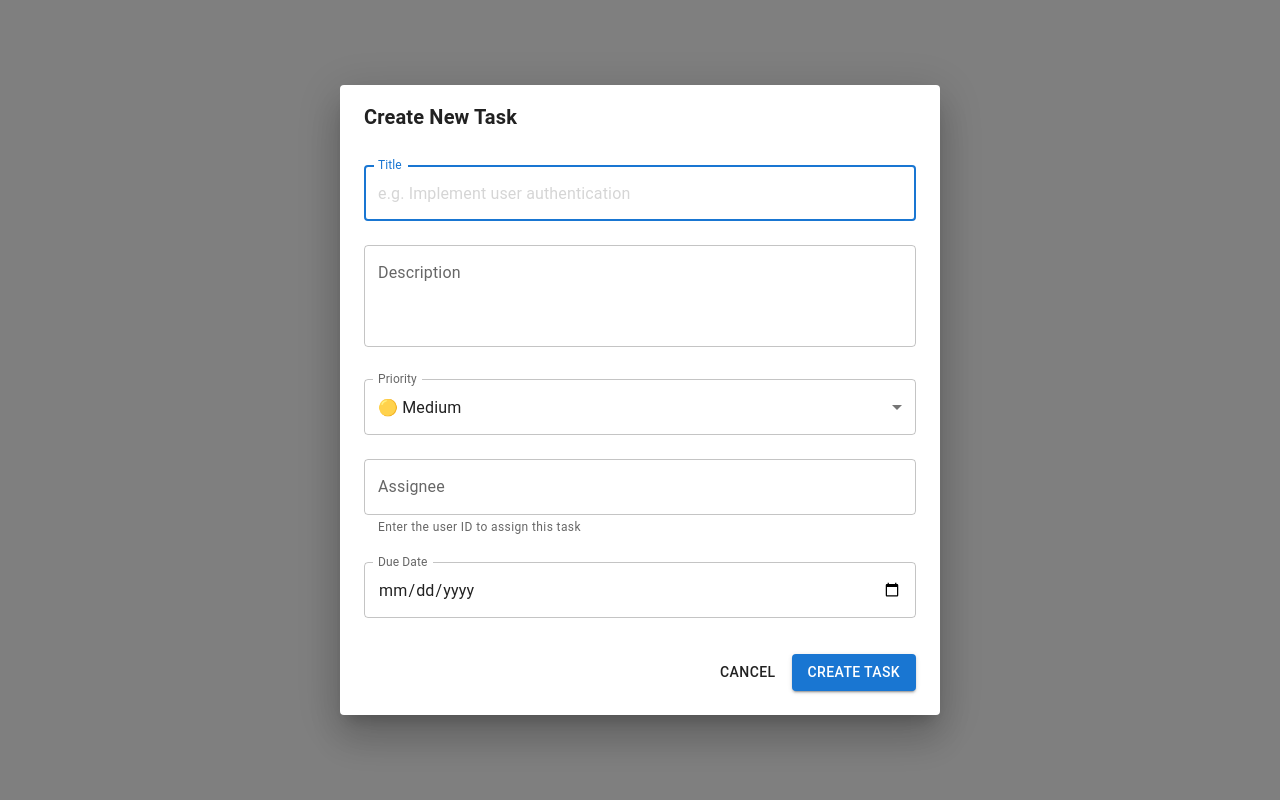
Scenario: TaskModal › shows error on submit failure
Step 1. Type "Task" into the field labelled "Title" → (640, 193), box [364,165,916,221]
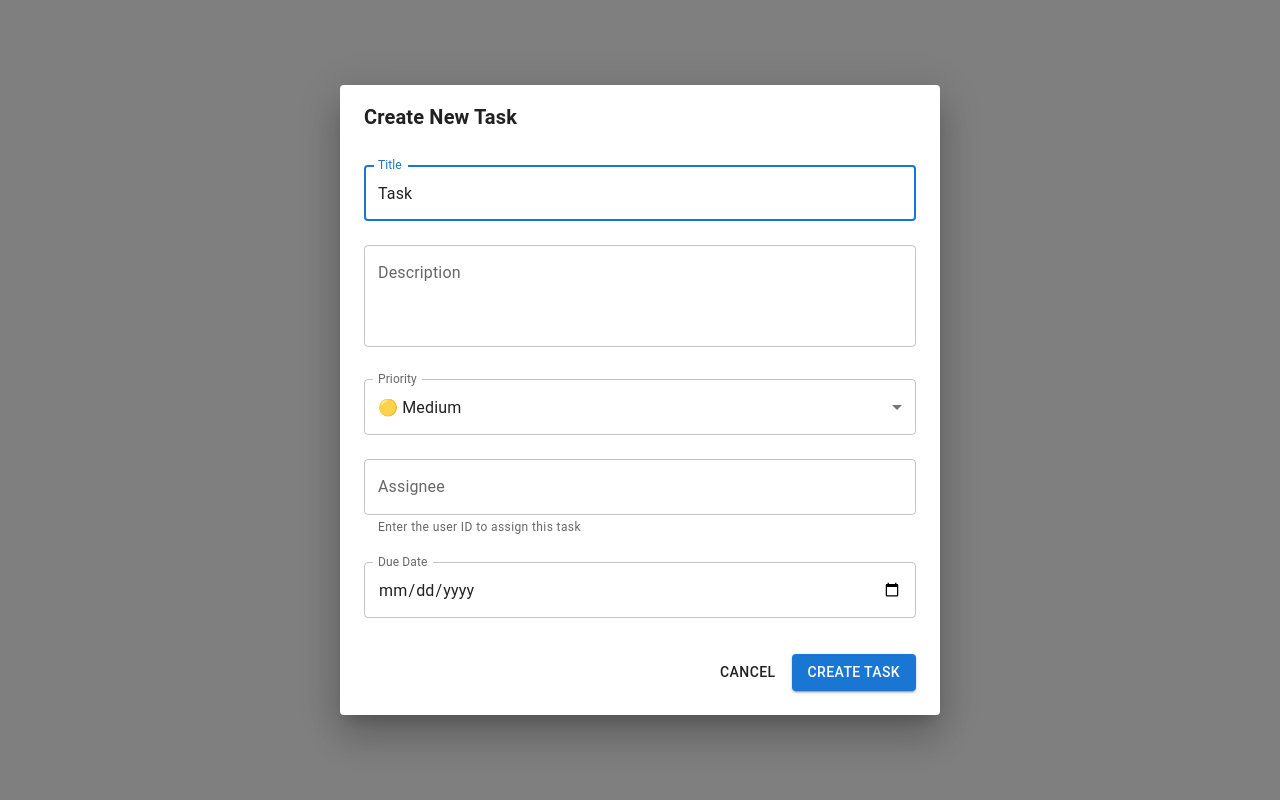
Step 2. Click the button "Create Task" → (854, 672), box [792,654,916,691]
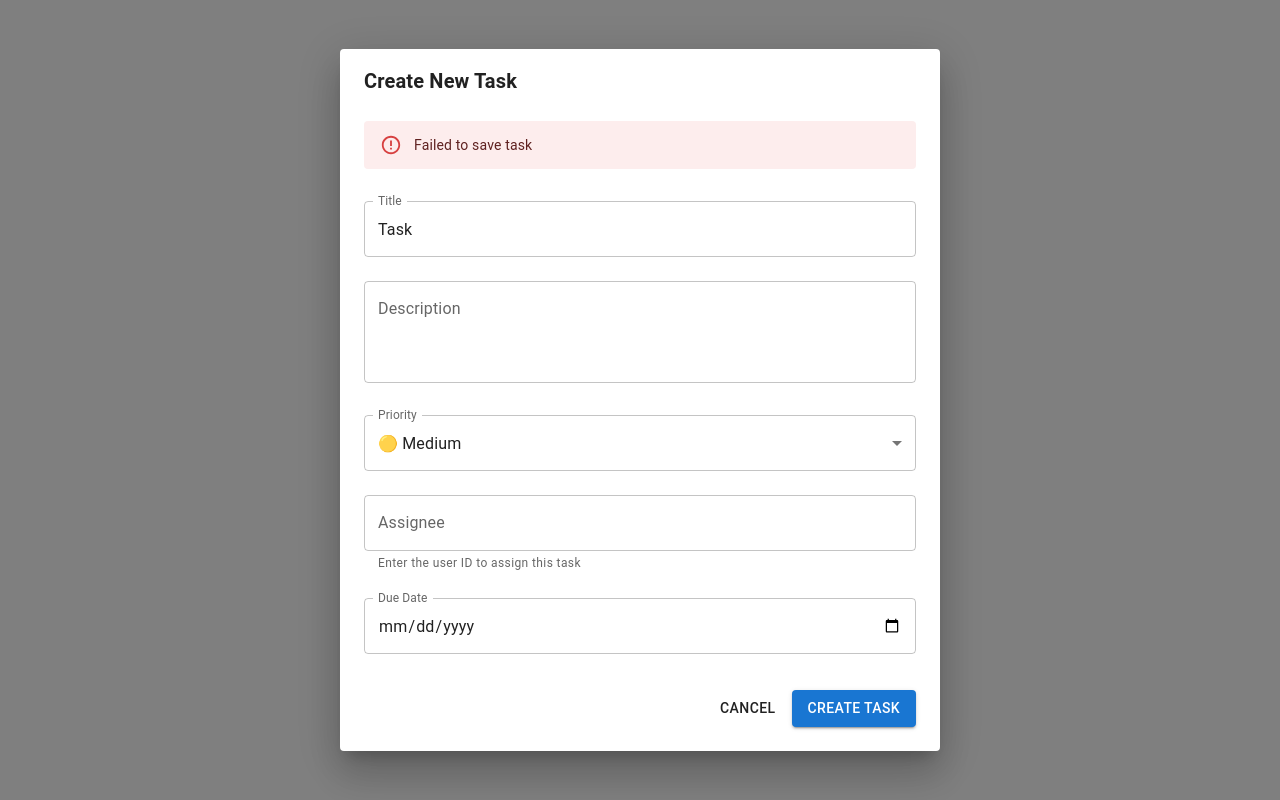
Now the text "Failed to save task" is shown, box [414,137,532,153]
